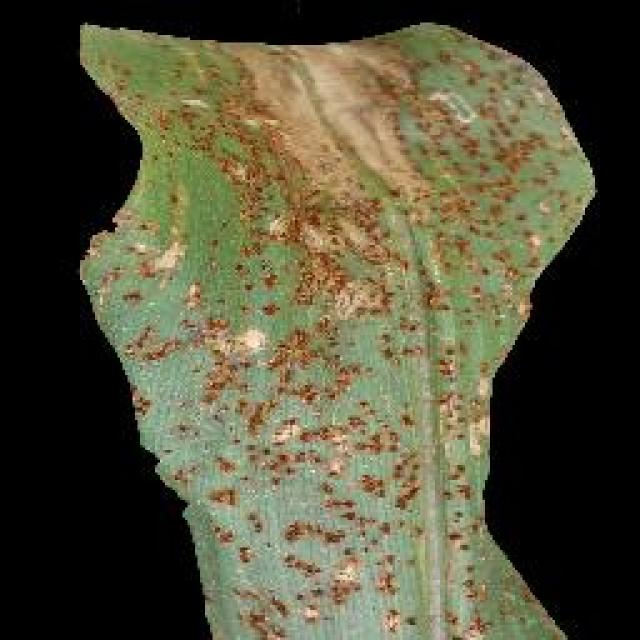Corn___Common_rust: (122, 25, 492, 640)
